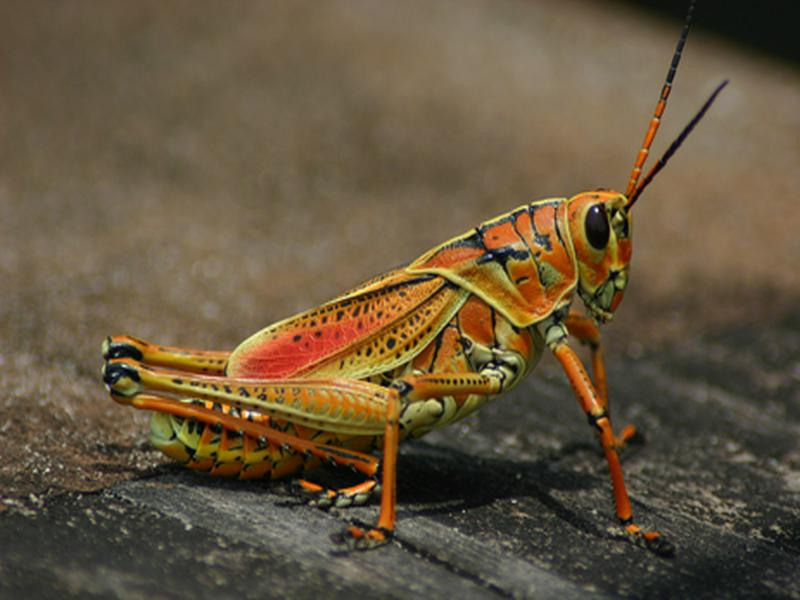Grasshopper: (85, 183, 654, 534)
